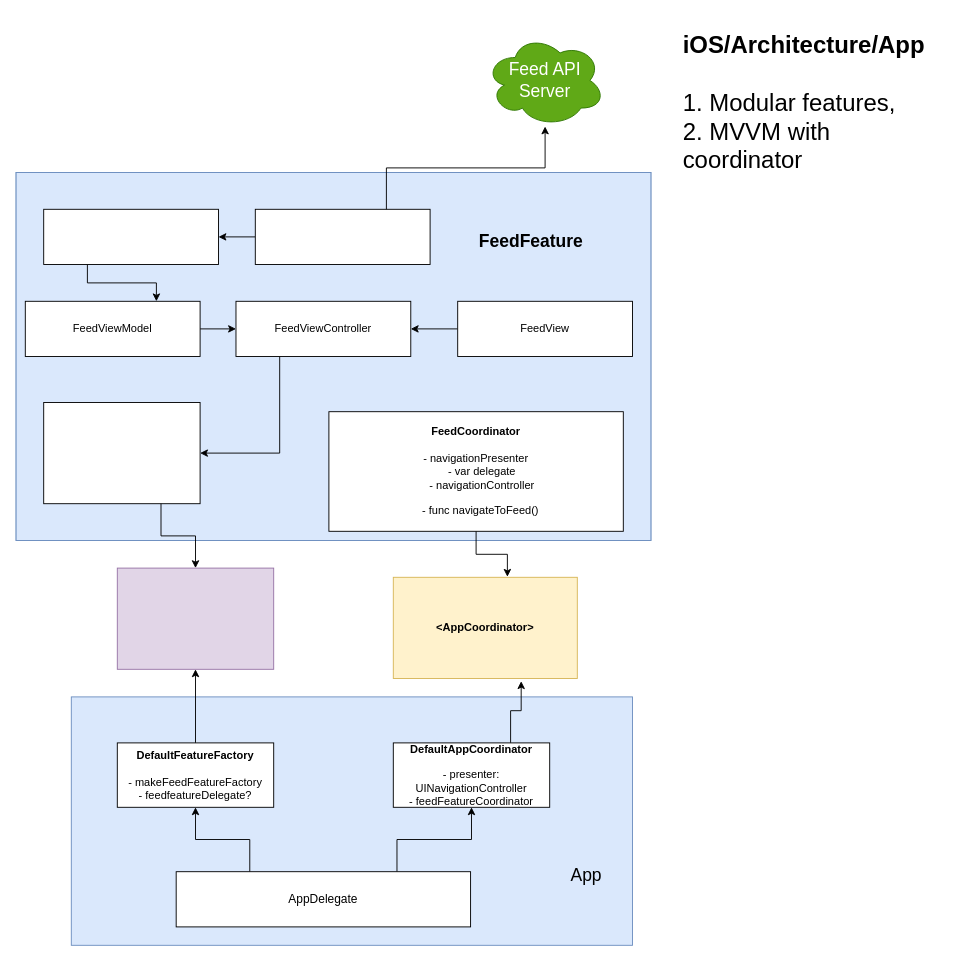
This 961x961 diagram has some shape labels left out. Each missing label, with the centre of its shape:
<FeatureFactory>: point (195, 618)
FeedFeatureFactory - makeFeedVC - makeFeedProvider: point (121, 453)
FeedRemoteRepository: point (130, 236)
FeedWebservice: point (342, 236)
